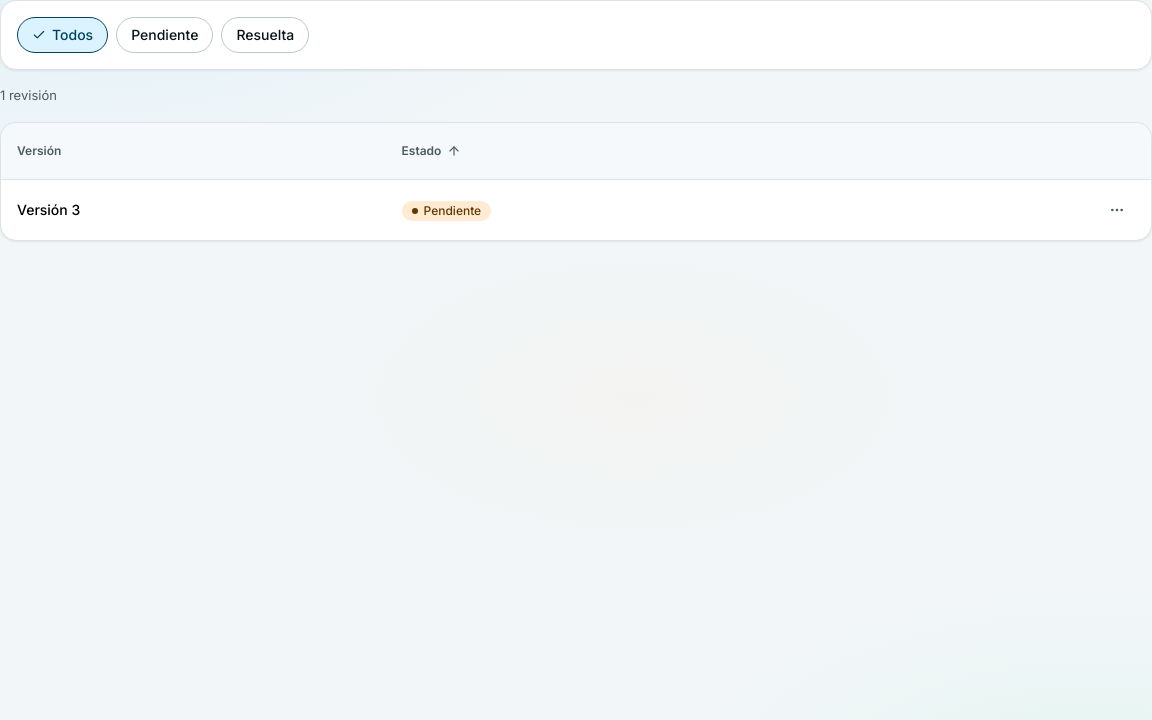
Test: ConsultarRevisionesRealizadas › "Ver observaciones" abre el panel de esa revisión y "Cerrar" lo cierra conservando el filtro
This screenshot has width=1152, height=720.
Click the button "Resuelta": (265, 35) [221,17,309,53]
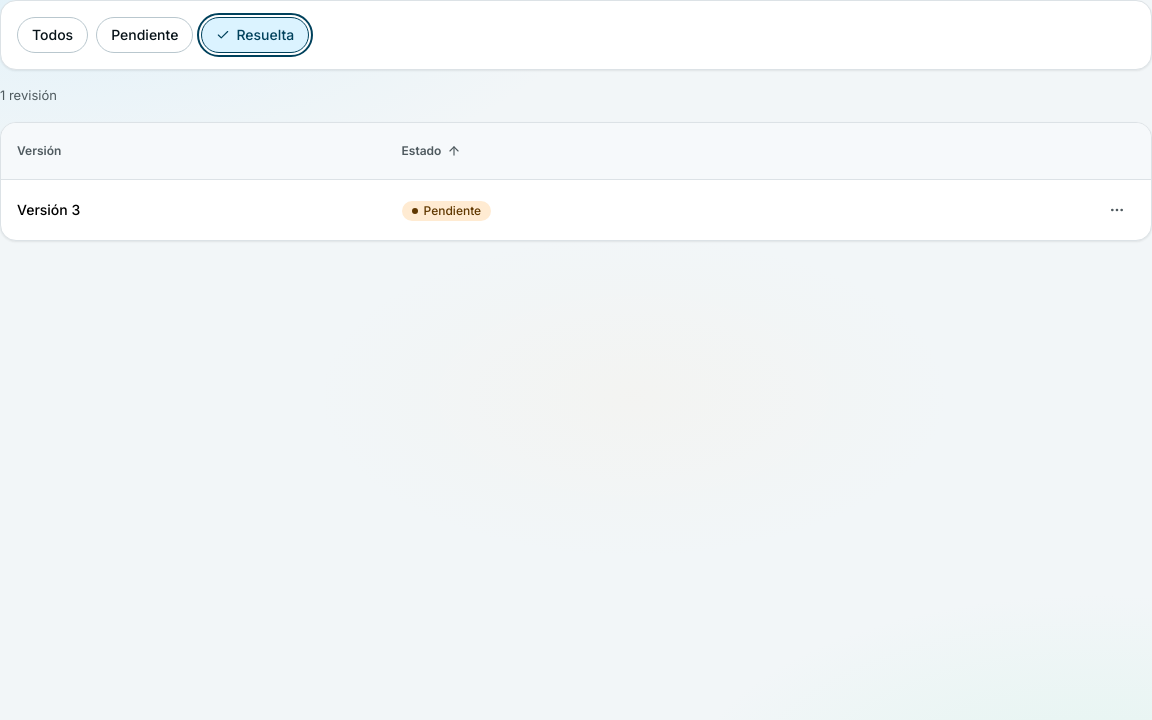
Click the button named "Acciones de la revisión de la versión 3": (1117, 210) [1099,192,1135,228]
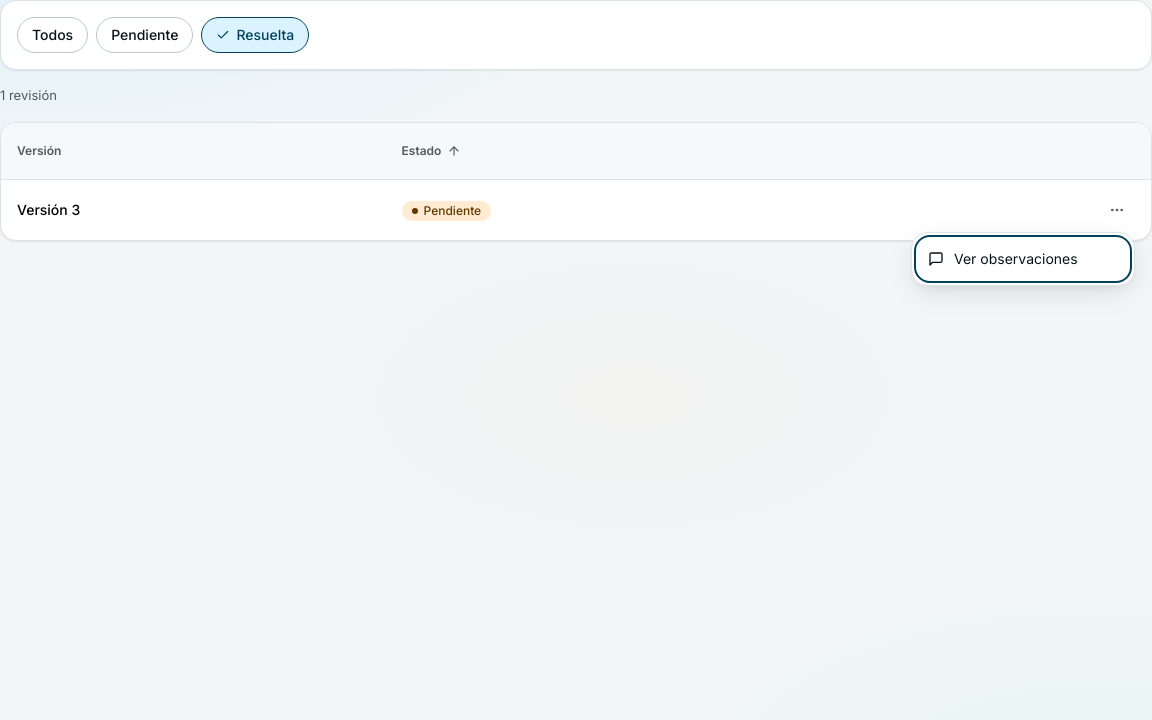
Click the menu item "Ver observaciones": (1023, 259) [918,239,1128,279]
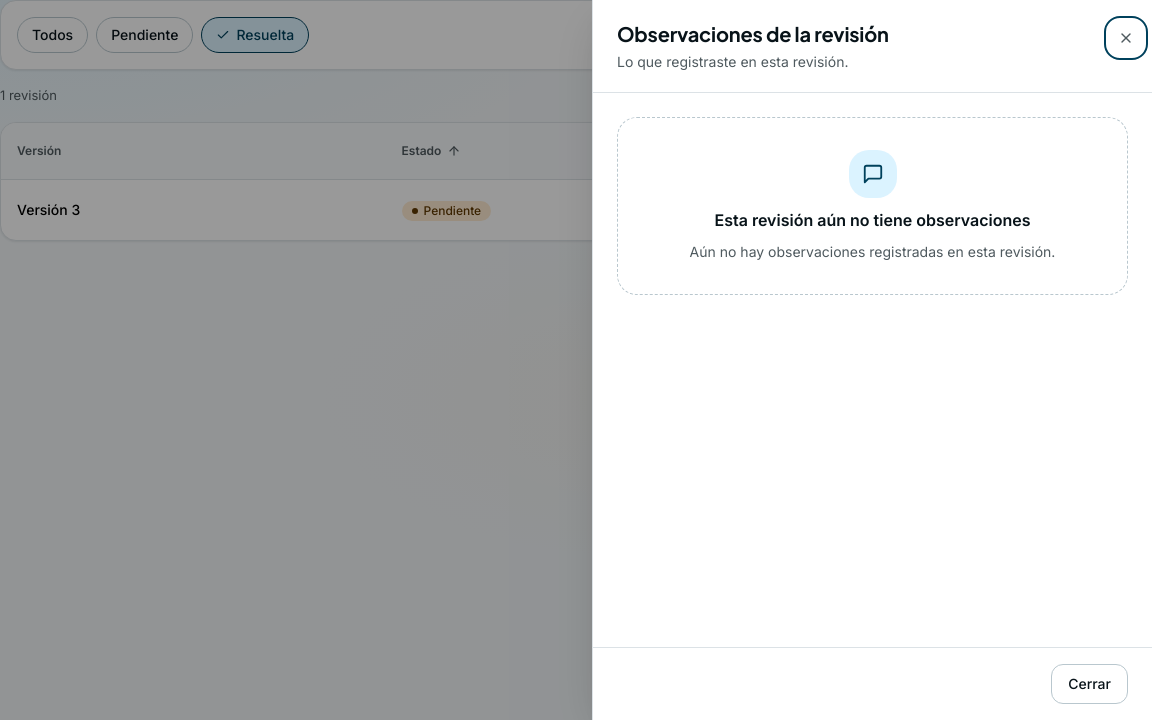
Now the heading "Observaciones de la revisión" is shown, box [617,20,889,48]
Click the button "Cerrar": (1090, 684) [1051,664,1128,704]
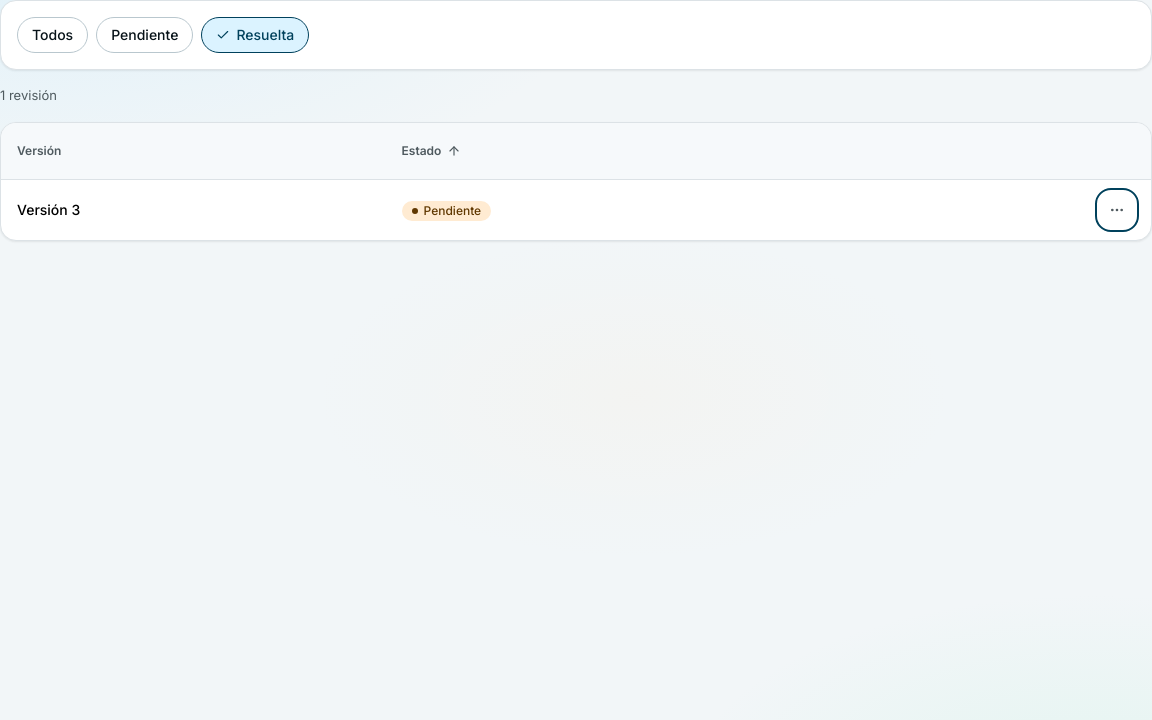
Now the heading "Observaciones de la revisión" is gone
